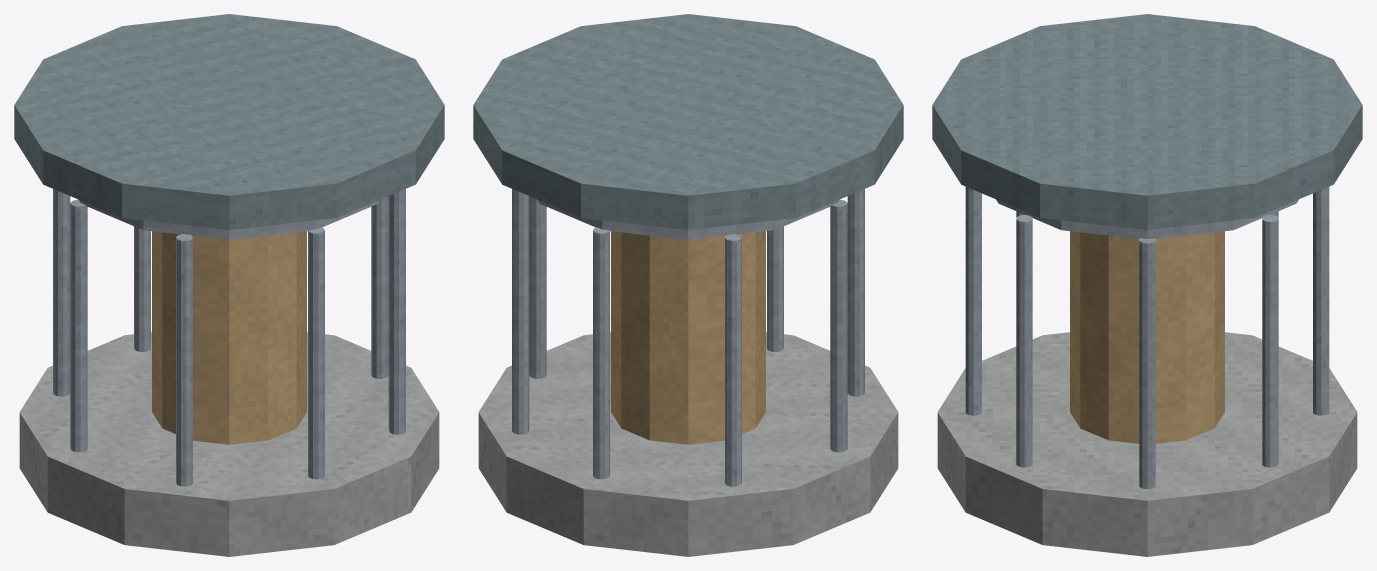
Rendered from level_blockout_lighthouse_optic.glb.
3 renders of one model, left to right at view 1: azimuth 30°, elevation 25°; view 2: azimuth 150°, elevation 25°; view 3: azimuth 270°, elevation 25°, orthographic.
Parts seen in each view (by area): view 1: level_blockout_lighthouse_optic; view 2: level_blockout_lighthouse_optic; view 3: level_blockout_lighthouse_optic.
Part boxes in pixels (box(x1,y1,x2,y2)): level_blockout_lighthouse_optic: box(14, 14, 444, 556); level_blockout_lighthouse_optic: box(473, 14, 903, 556); level_blockout_lighthouse_optic: box(932, 14, 1362, 556).
Size of the model in its own units: 2.5 by 2.33 by 2.5.
Materials: 4 (4 with a texture image).
